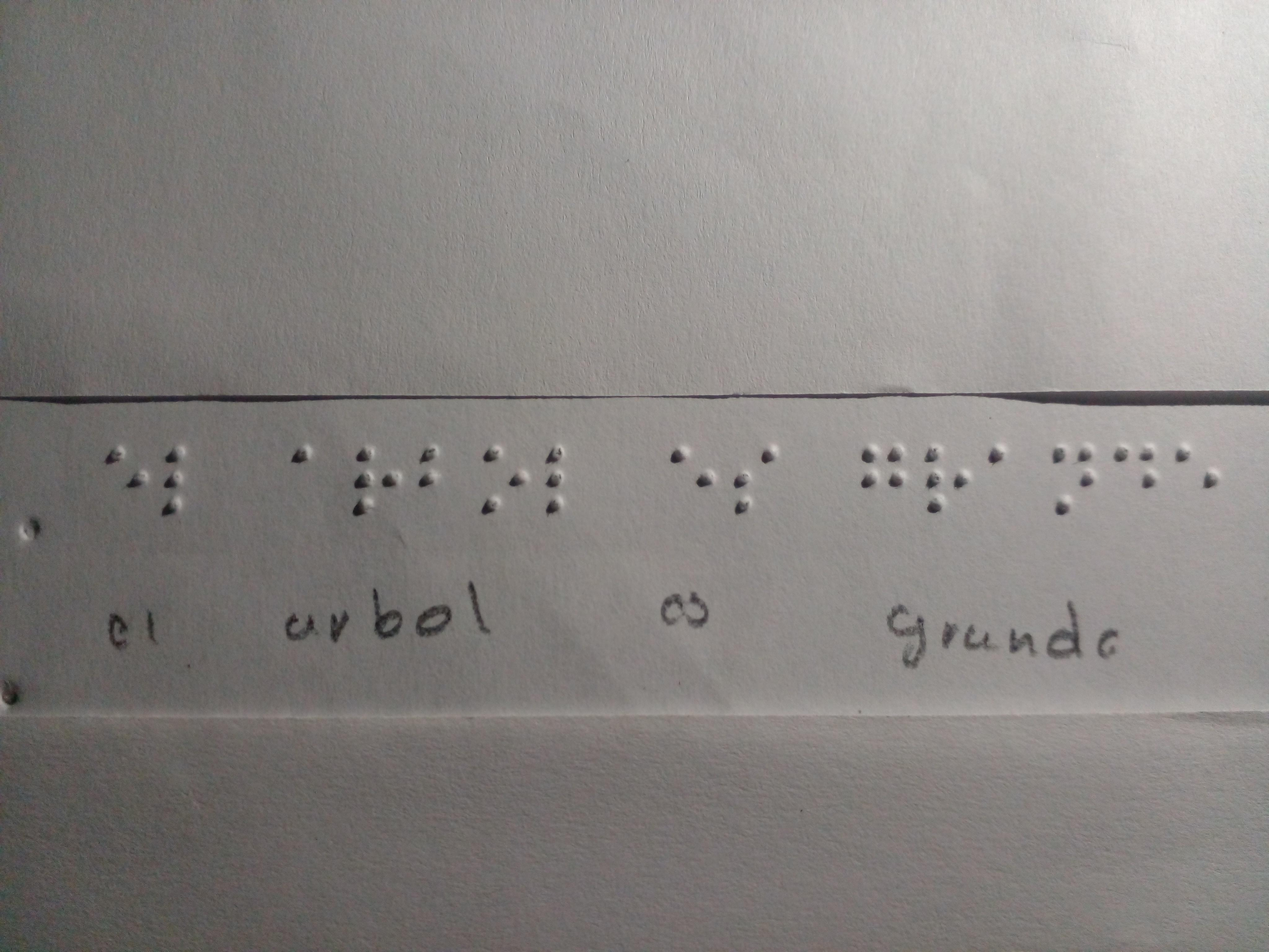a: (973, 437, 1016, 479), (291, 442, 325, 491)
b: (412, 437, 454, 505)
d: (1108, 431, 1162, 510)
e: (644, 435, 719, 502), (101, 428, 158, 508), (1168, 437, 1225, 499)
g: (852, 435, 911, 508)
l: (163, 443, 203, 525), (539, 442, 575, 528)
n: (1041, 435, 1103, 514)
o: (479, 440, 539, 519)
r: (920, 432, 973, 525), (355, 439, 403, 514)
s: (730, 445, 778, 518)
